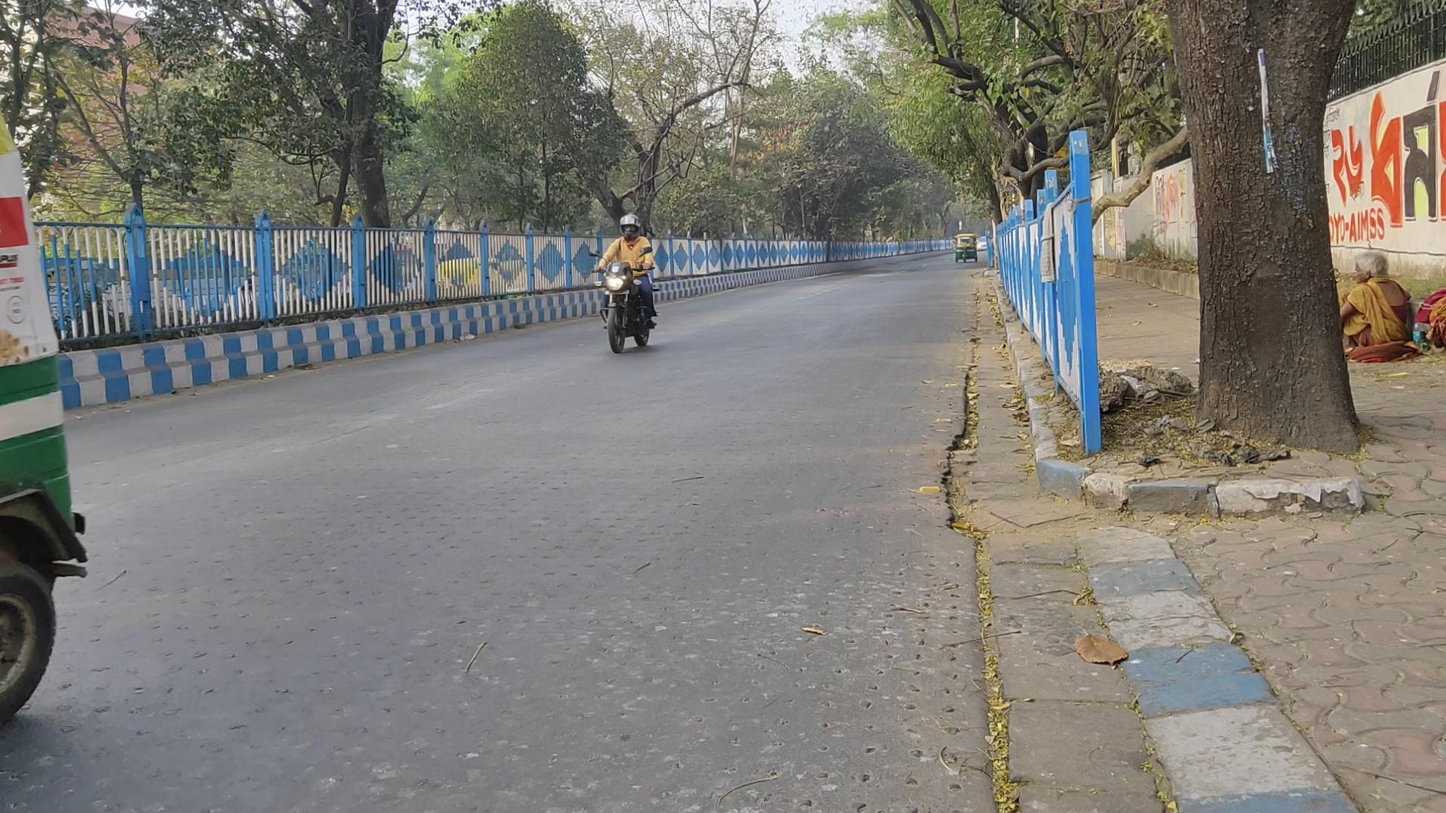Auto: (952, 230, 980, 266)
bike: (587, 213, 662, 354)
